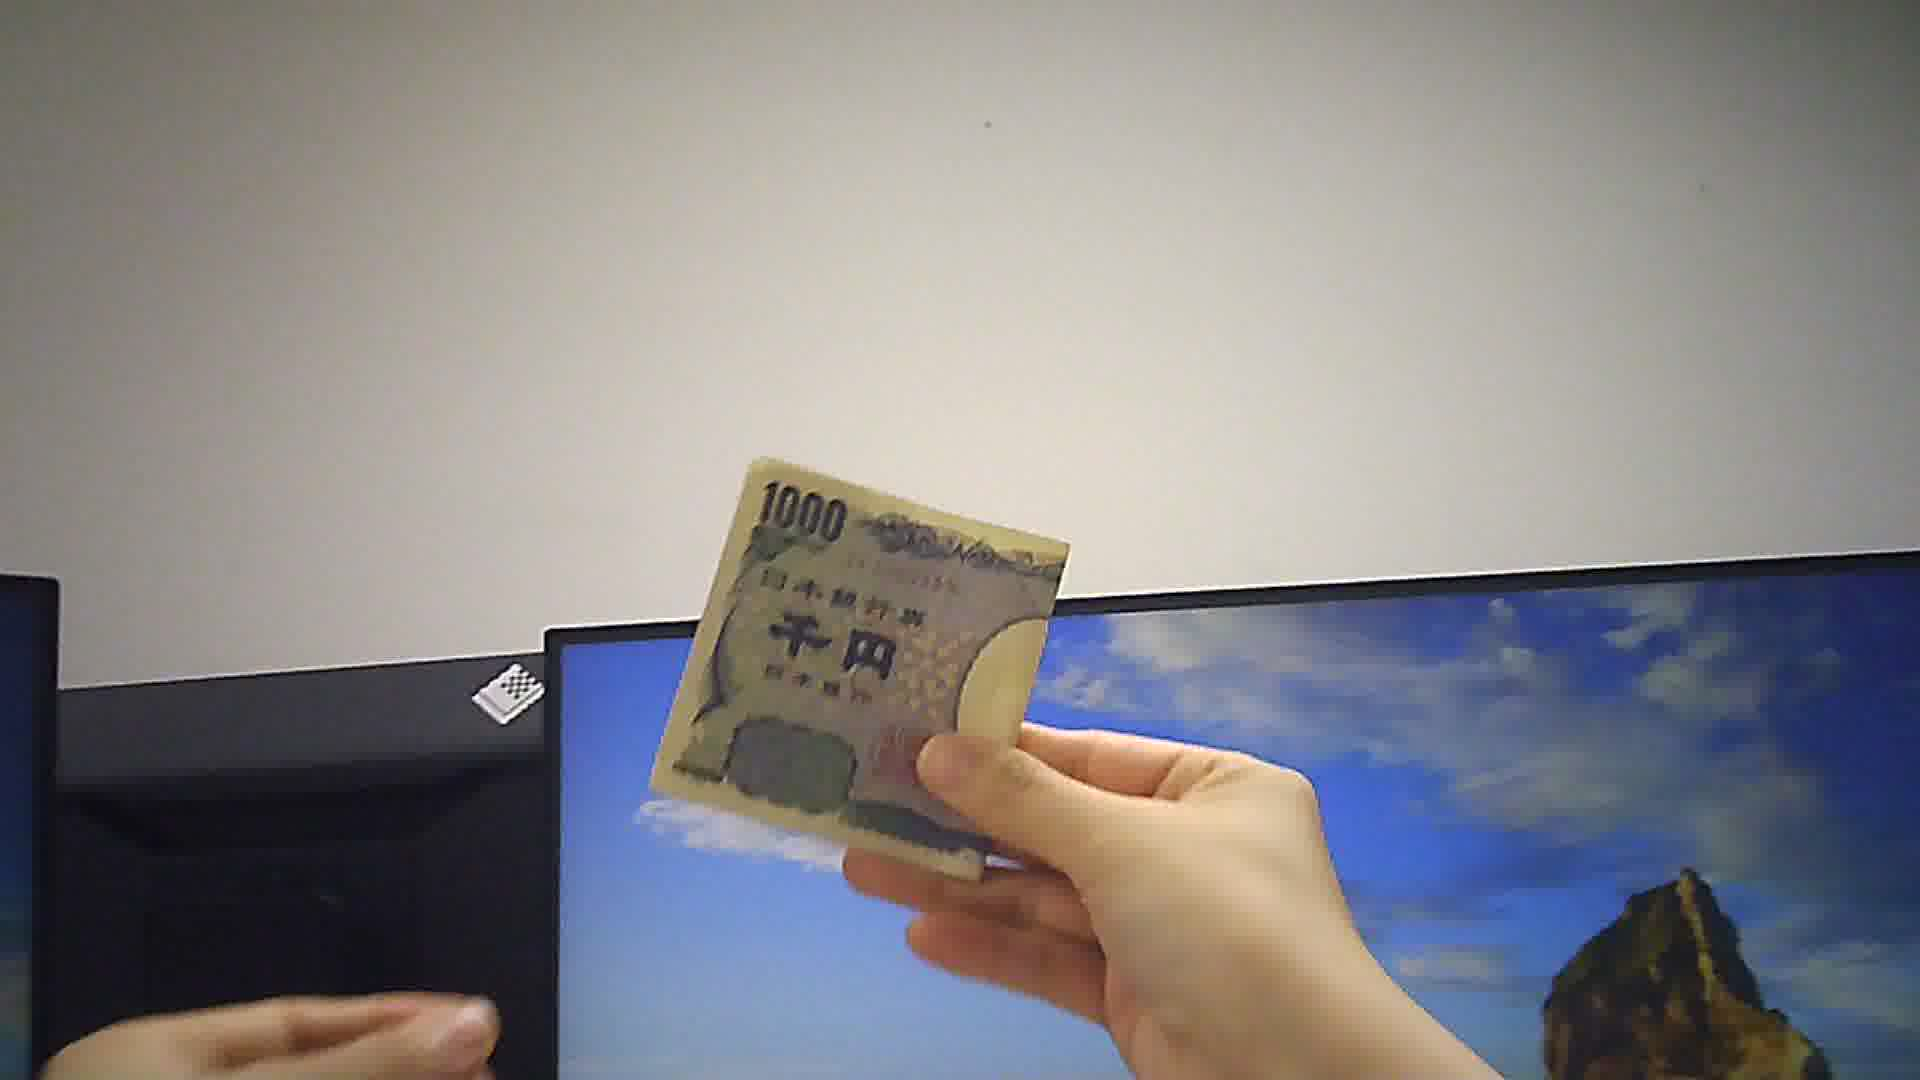1,000 Yen: (659, 447, 1054, 864)
